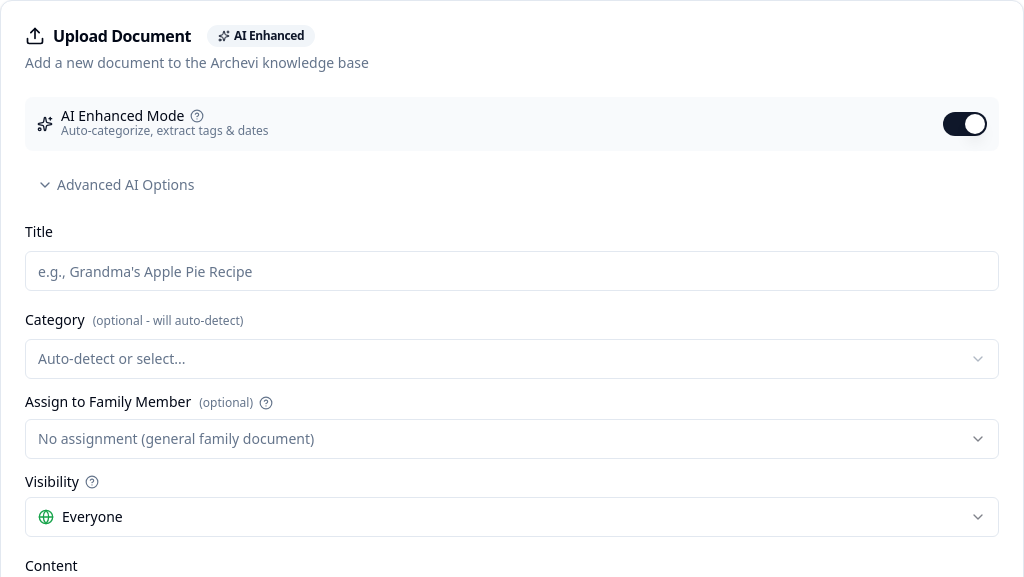
Test: DocumentUpload › Enhanced Mode › expands advanced options on click
Click the button "Advanced AI Options" at point(116, 185), box [25, 167, 206, 203]
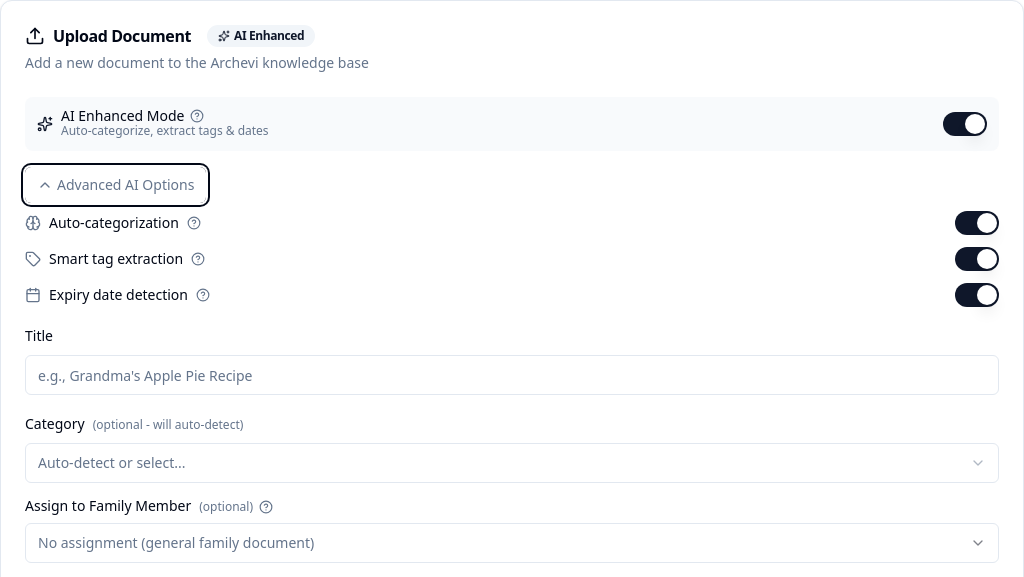
Now the text "Auto-categorization" is shown, box [49, 216, 179, 230]
Now the text "Smart tag extraction" is shown, box [49, 252, 183, 266]
Now the text "Expiry date detection" is shown, box [49, 288, 188, 302]
